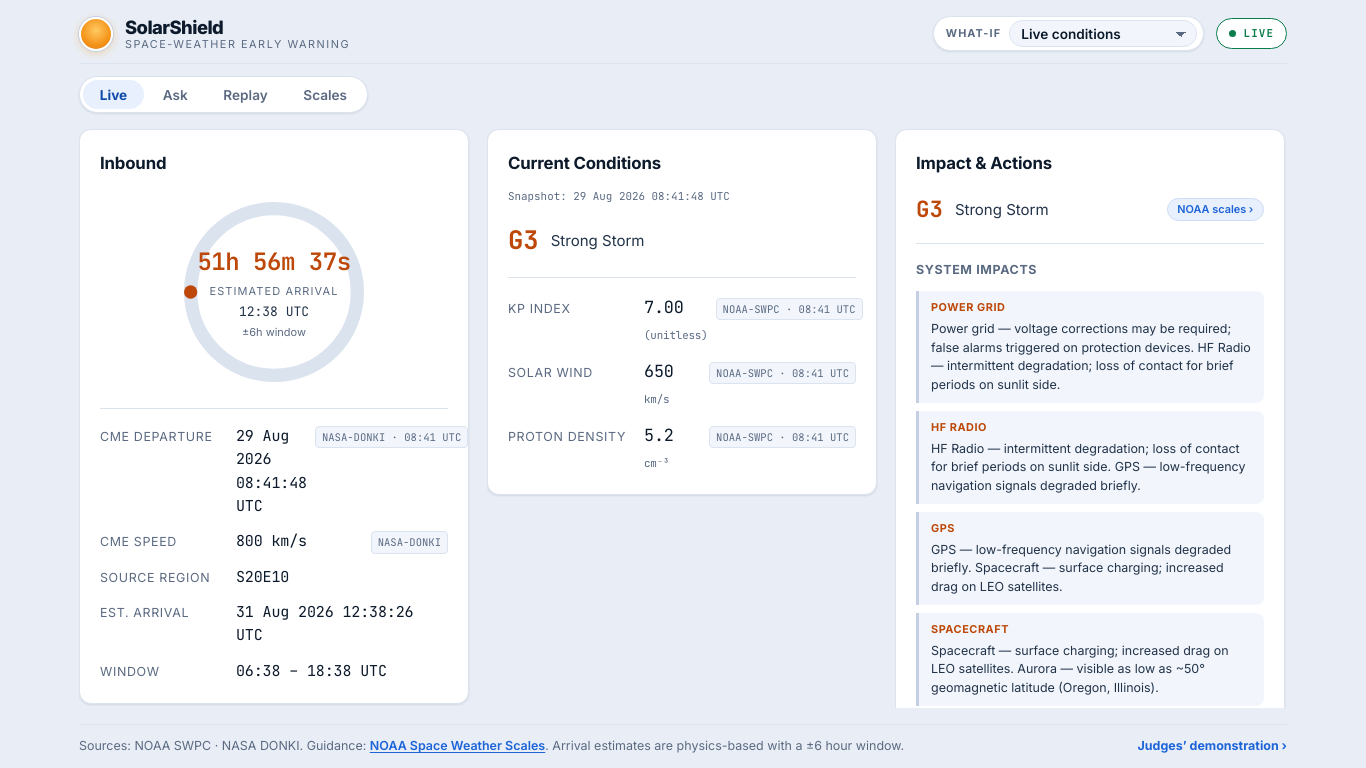
Test: SolarShield cockpit — full render + tab navigation › renders the shell, hydrates live data, and switches views without errors
Expected: the text "SolarShield" is shown, 125,16 -> 223,38
Expected: the text "Space-weather early warning" is shown, 125,39 -> 350,51
// Ask view.
Click the button "Ask". click: (175, 95)
box: 146,80 -> 205,109
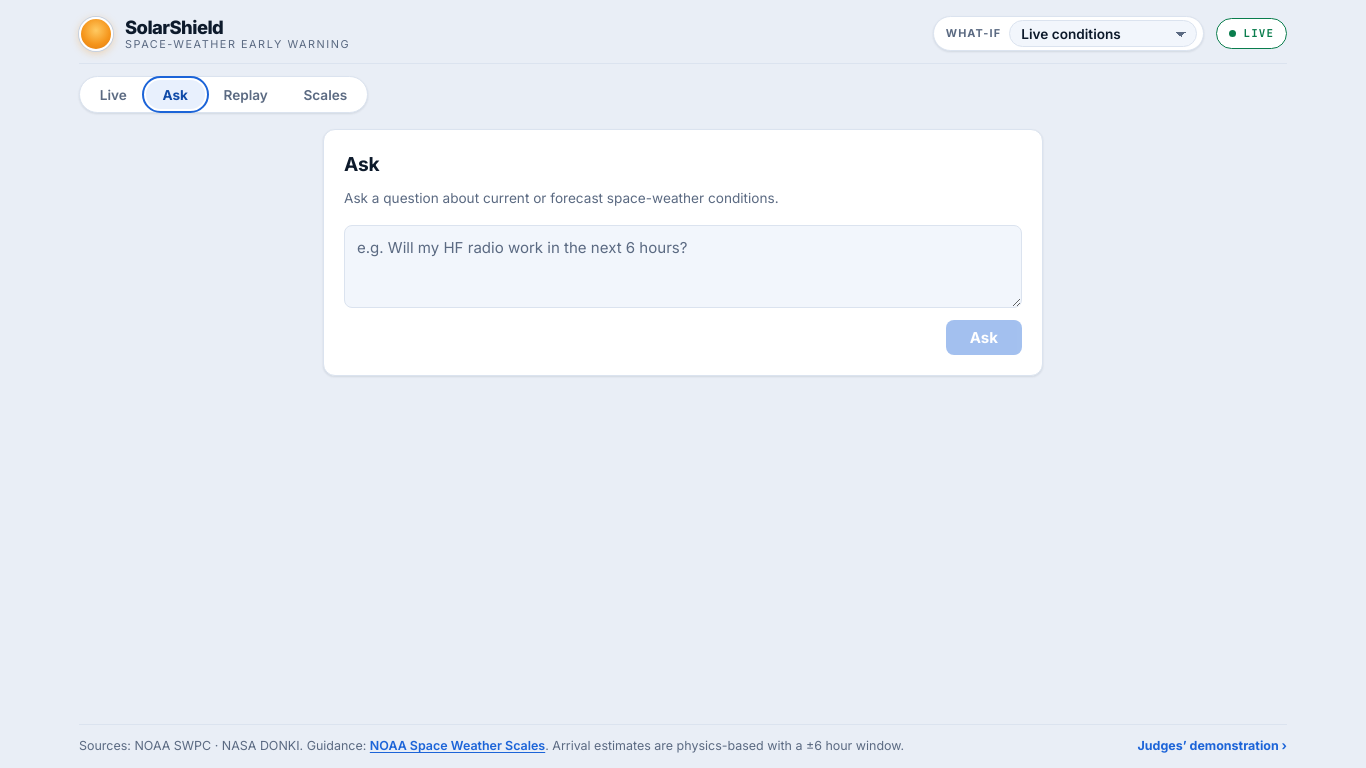
Expected: the text "Ask a question about current or forecast" is shown, 344,190 -> 779,206
Expected: the text box named "Question" is shown, 344,225 -> 1022,308
// Replay view.
Click the button "Replay". click: (246, 95)
box: 207,80 -> 285,109
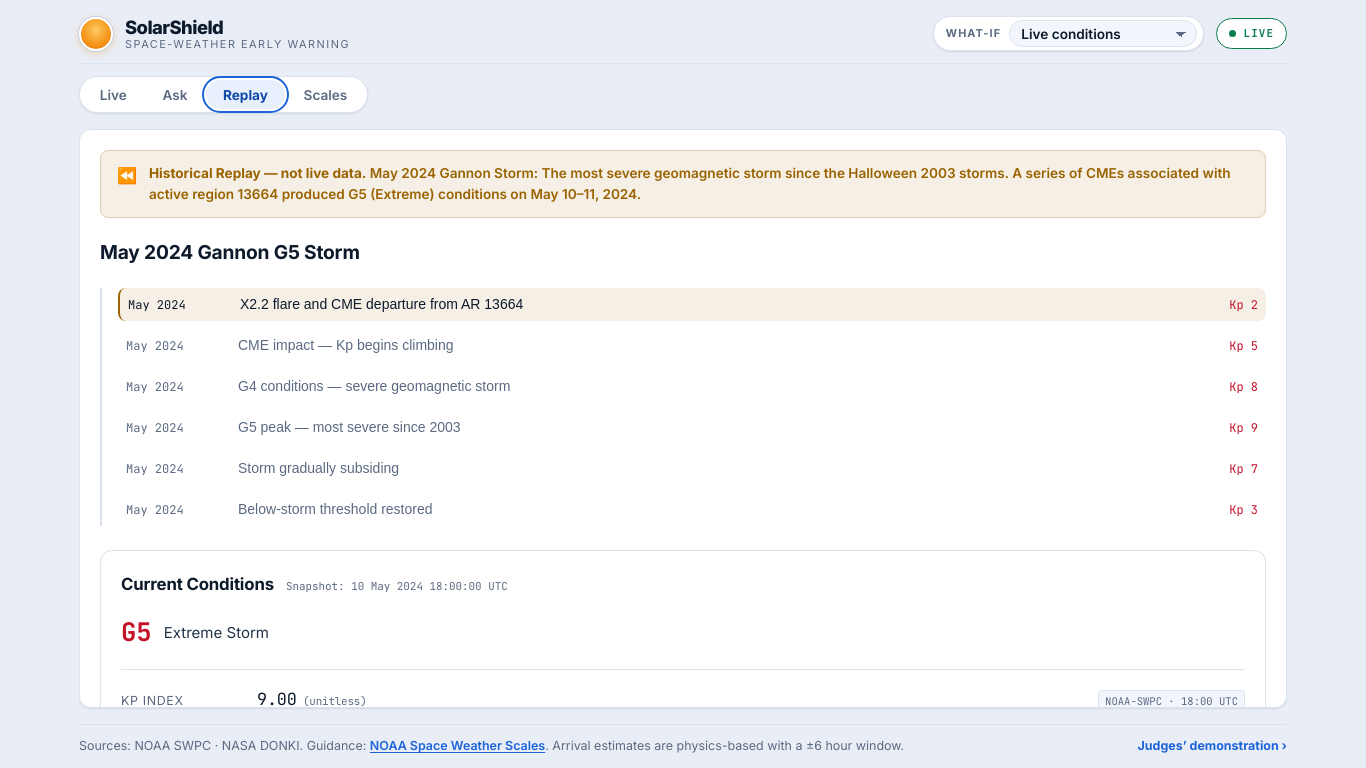
Expected: the text "Historical Replay — not live data." is shown, 149,165 -> 366,181
Expected: the heading "May 2024 Gannon G5 Storm" is shown, 100,240 -> 360,264
// Back to Live — countdown timer is mounted again.
Click the button "Live". click: (113, 95)
box: 83,80 -> 144,109
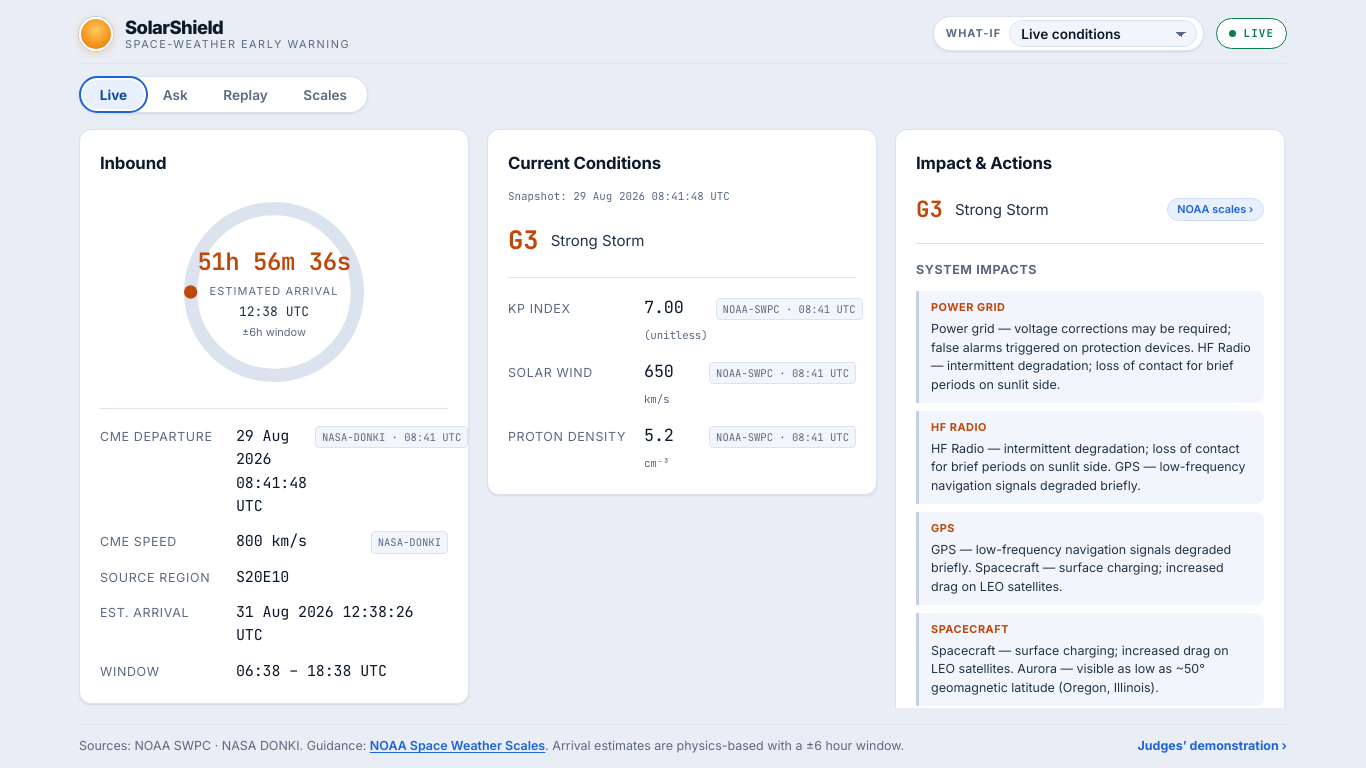
Expected: the element showing "51h 56m 36s estimated arrival 12:38 UTC ±6h window" is shown, 174,192 -> 374,392
